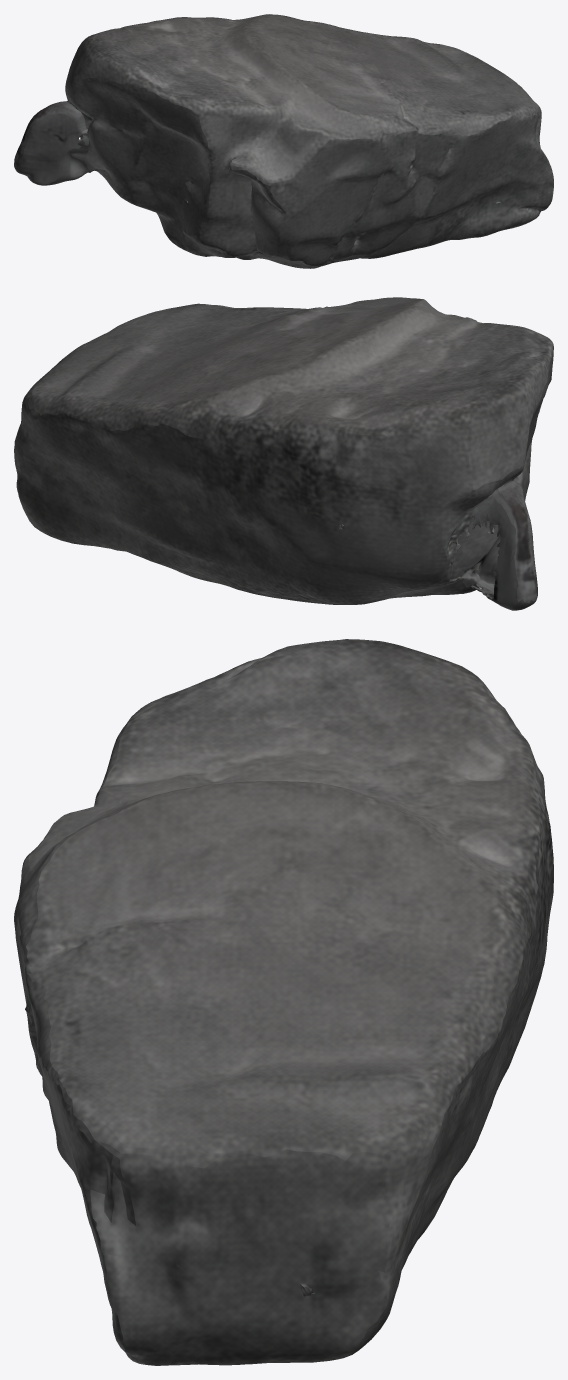
3 views of the same model, one above another, from view 1: azimuth 30°, elevation 25°; view 2: azimuth 150°, elevation 25°; view 3: azimuth 270°, elevation 25° (orthographic). The views are drawn at different scales.
Visible parts, largest first — view 1: world; view 2: world; view 3: world.
Part boxes in pixels (x1,y1,x2,y2): world: (14, 14, 553, 268); world: (14, 297, 553, 610); world: (14, 639, 553, 1365).
Bounding box in the file's own units: 2.5 × 1.19 × 1.46.
1 material, 1 textured.
